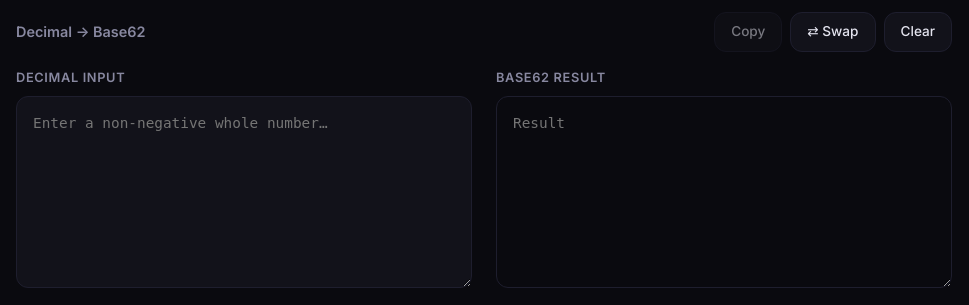
Test: Base62Tool conversion › allows decoding Base62 before entering a decimal value
Click the button "⇄ Swap": [833, 32] box [790,12,876,52]
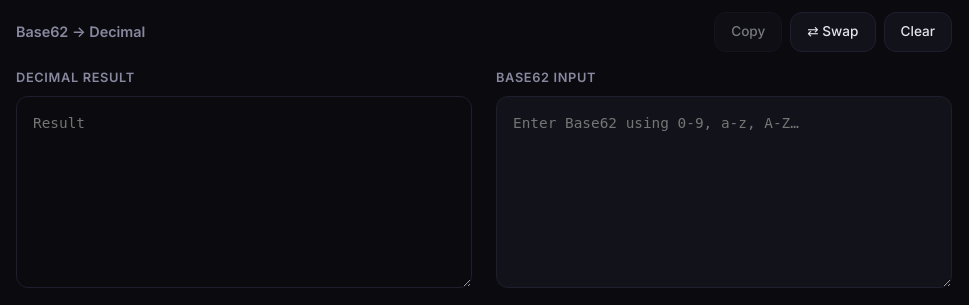
Expected: the text box labelled "Base62 input" does not have attribute readonly
In the text box labelled "Base62 input": [724, 192] box [496,96,952,288], type "Z"
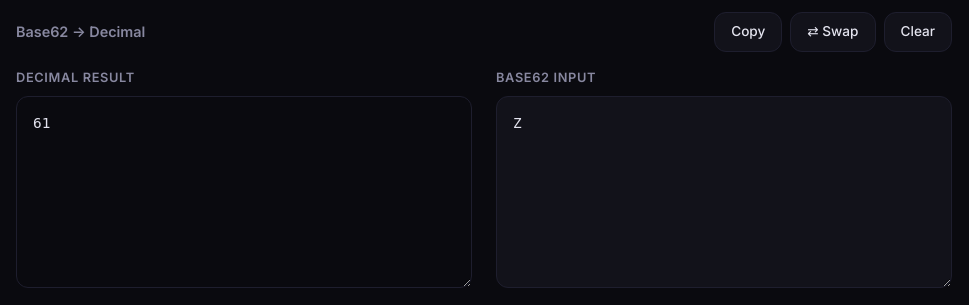
Expected: the text box labelled "Decimal result" holds "61", [16,96,472,288]
